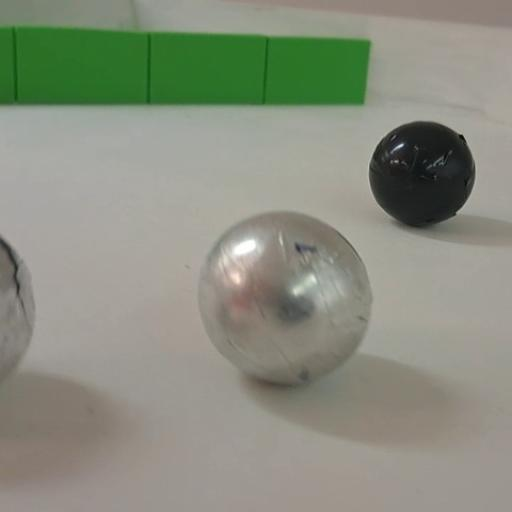alive: (195, 210, 372, 390), (0, 226, 36, 398)
dead: (368, 122, 474, 227)
